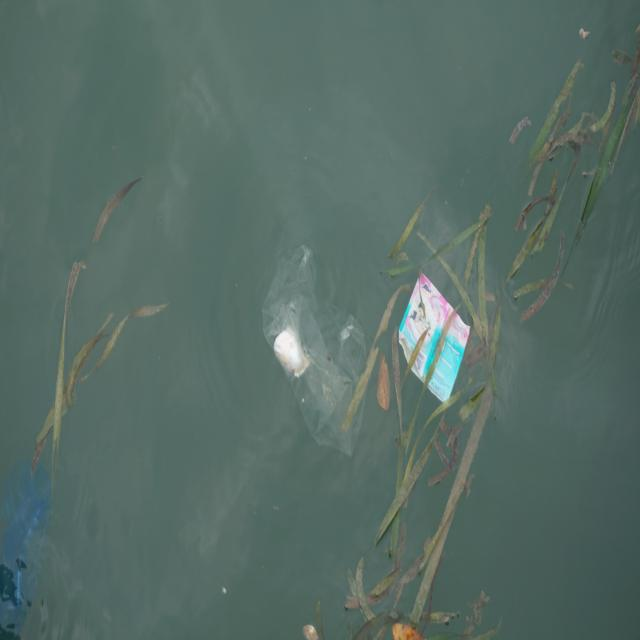Kantong Plastik: (261, 241, 372, 459), (2, 460, 62, 639)
